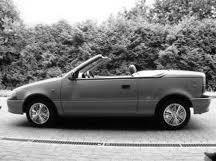car: (9, 53, 212, 132)
